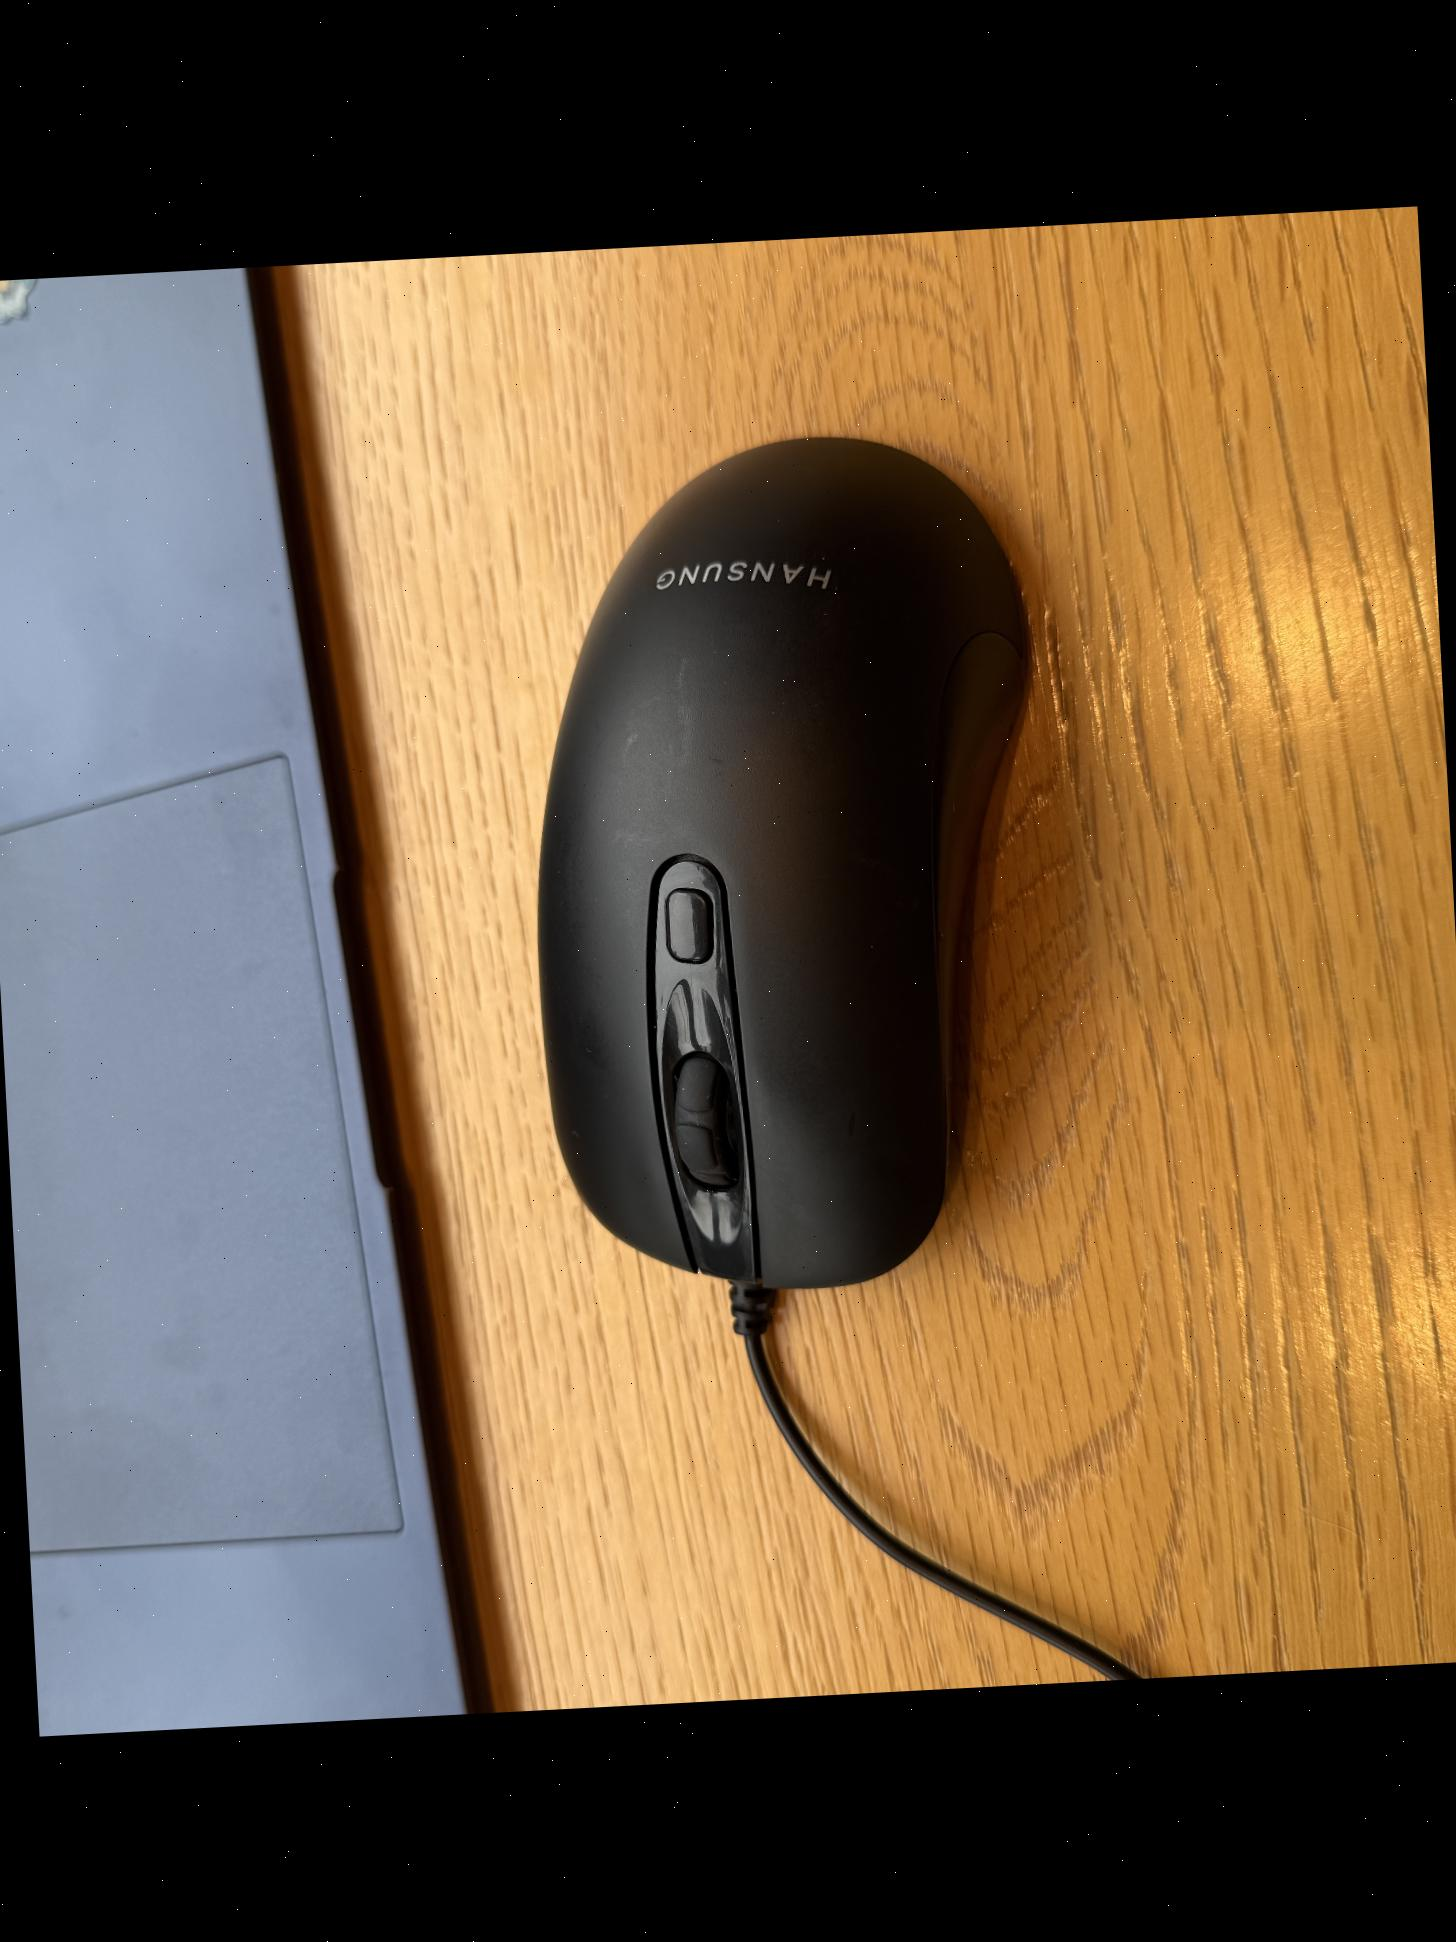front: (512, 410, 1077, 1318)
